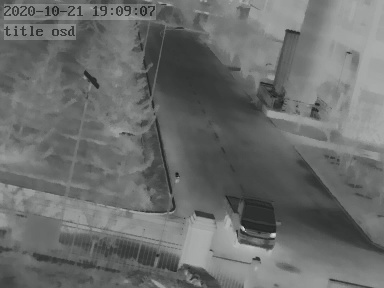vehicle: (225, 193, 278, 251)
